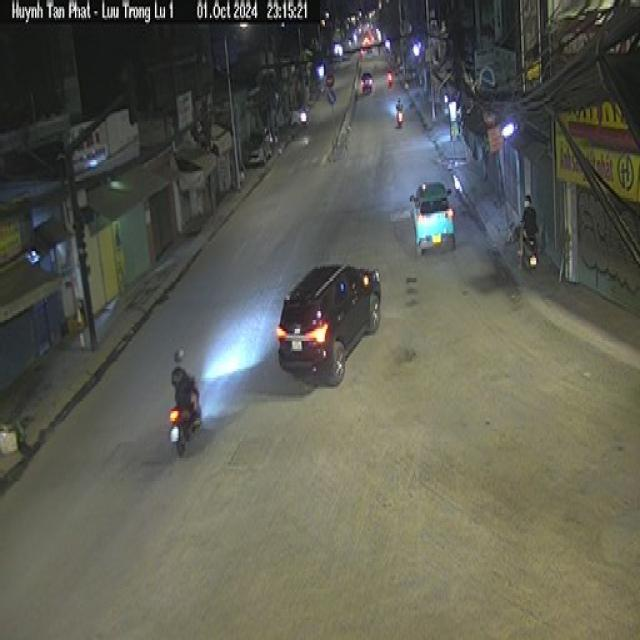car: (276, 262, 382, 384), (408, 178, 457, 255), (360, 71, 372, 93)
motorcycle: (169, 400, 201, 456), (520, 227, 539, 269)
person: (171, 347, 200, 438), (518, 194, 538, 262)
